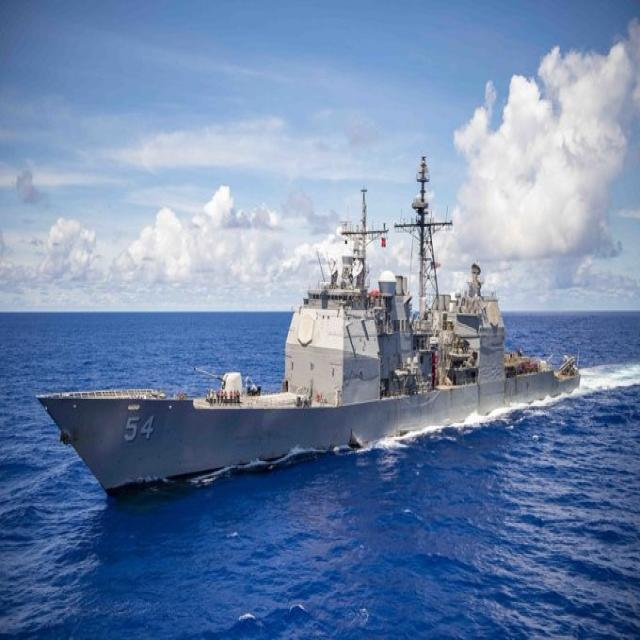navalvessels: (36, 137, 593, 513)
